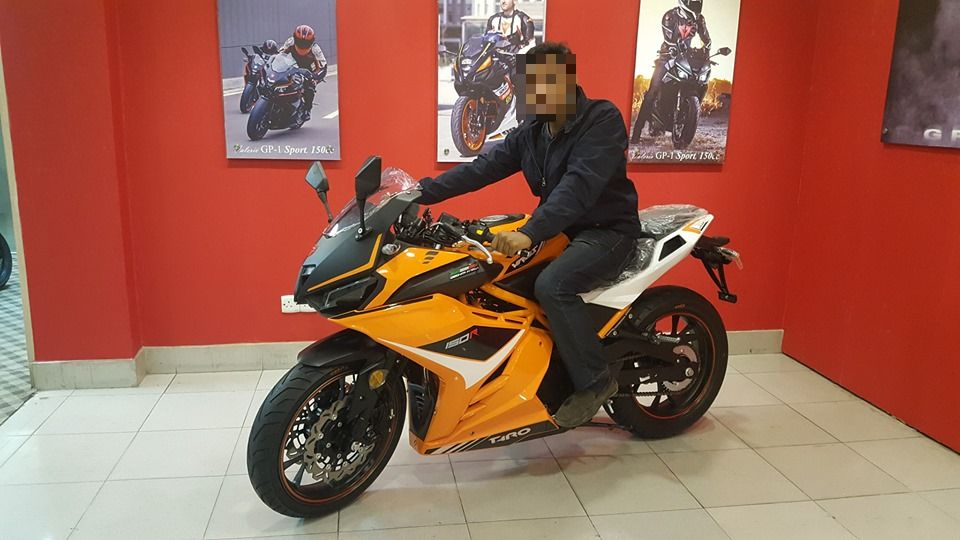bike: (246, 149, 739, 523), (651, 42, 731, 153), (448, 33, 518, 150), (248, 66, 312, 138), (238, 42, 272, 111)
